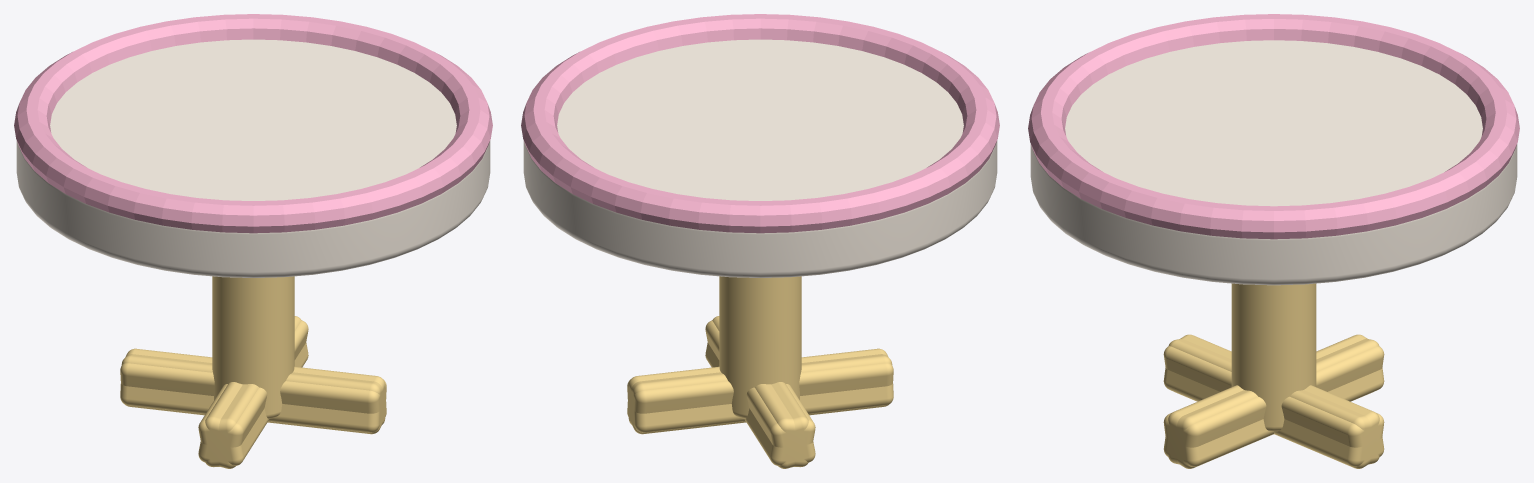
The model's file is 草莓圆桌.fbx.
3 renders of one model, left to right at view 1: azimuth 30°, elevation 25°; view 2: azimuth 150°, elevation 25°; view 3: azimuth 270°, elevation 25°, orthographic. The views are drawn at different scales.
Visible parts, largest first — view 1: 草莓圆桌_奶油圆桌面, 草莓圆桌_粉色桌边, 草莓圆桌_中柱, 草莓圆桌_外撇桌脚.002, 草莓圆桌_外撇桌脚, 草莓圆桌_外撇桌脚.001, 草莓圆桌_外撇桌脚.003; view 2: 草莓圆桌_奶油圆桌面, 草莓圆桌_粉色桌边, 草莓圆桌_中柱, 草莓圆桌_外撇桌脚.001, 草莓圆桌_外撇桌脚.003, 草莓圆桌_外撇桌脚, 草莓圆桌_外撇桌脚.002; view 3: 草莓圆桌_奶油圆桌面, 草莓圆桌_粉色桌边, 草莓圆桌_中柱, 草莓圆桌_外撇桌脚, 草莓圆桌_外撇桌脚.003, 草莓圆桌_外撇桌脚.001, 草莓圆桌_外撇桌脚.002.
Part boxes in pixels (x1,y1,x2,y2): 草莓圆桌_奶油圆桌面: (16, 39, 490, 277); 草莓圆桌_粉色桌边: (14, 14, 492, 233); 草莓圆桌_中柱: (212, 276, 294, 418); 草莓圆桌_外撇桌脚.002: (120, 348, 386, 434); 草莓圆桌_外撇桌脚: (120, 354, 386, 432); 草莓圆桌_外撇桌脚.001: (198, 316, 308, 467); 草莓圆桌_外撇桌脚.003: (198, 320, 308, 468); 草莓圆桌_奶油圆桌面: (523, 39, 997, 277); 草莓圆桌_粉色桌边: (521, 14, 999, 233); 草莓圆桌_中柱: (719, 276, 801, 418); 草莓圆桌_外撇桌脚.001: (627, 348, 893, 434); 草莓圆桌_外撇桌脚.003: (627, 354, 893, 432); 草莓圆桌_外撇桌脚: (705, 320, 815, 468); 草莓圆桌_外撇桌脚.002: (705, 316, 815, 467); 草莓圆桌_奶油圆桌面: (1030, 40, 1517, 285); 草莓圆桌_粉色桌边: (1028, 14, 1519, 239); 草莓圆桌_中柱: (1231, 283, 1316, 431); 草莓圆桌_外撇桌脚: (1163, 334, 1384, 468); 草莓圆桌_外撇桌脚.003: (1163, 334, 1384, 468); 草莓圆桌_外撇桌脚.001: (1163, 338, 1384, 466); 草莓圆桌_外撇桌脚.002: (1163, 338, 1384, 466).
Bounding box in the file's own units: 93 × 65.66 × 93.
